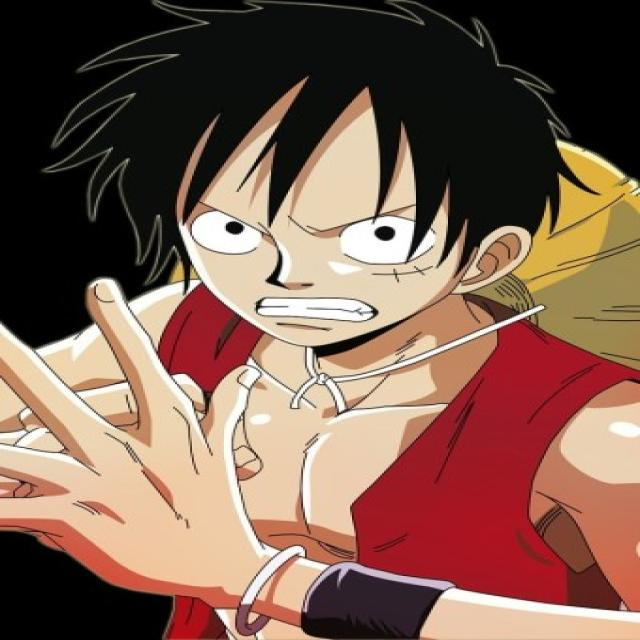Luffy: (15, 0, 541, 353)
